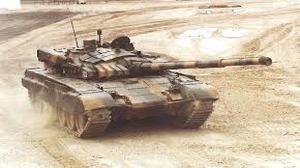t72: (22, 35, 271, 138)
